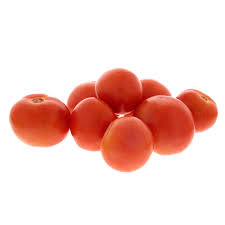tomato: (138, 94, 197, 159), (108, 118, 159, 184), (10, 92, 63, 152), (93, 61, 145, 110)
